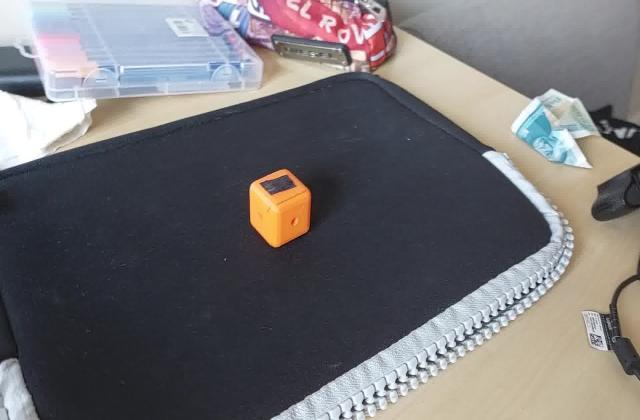black: (258, 175, 299, 198)
cube: (246, 167, 314, 250)
